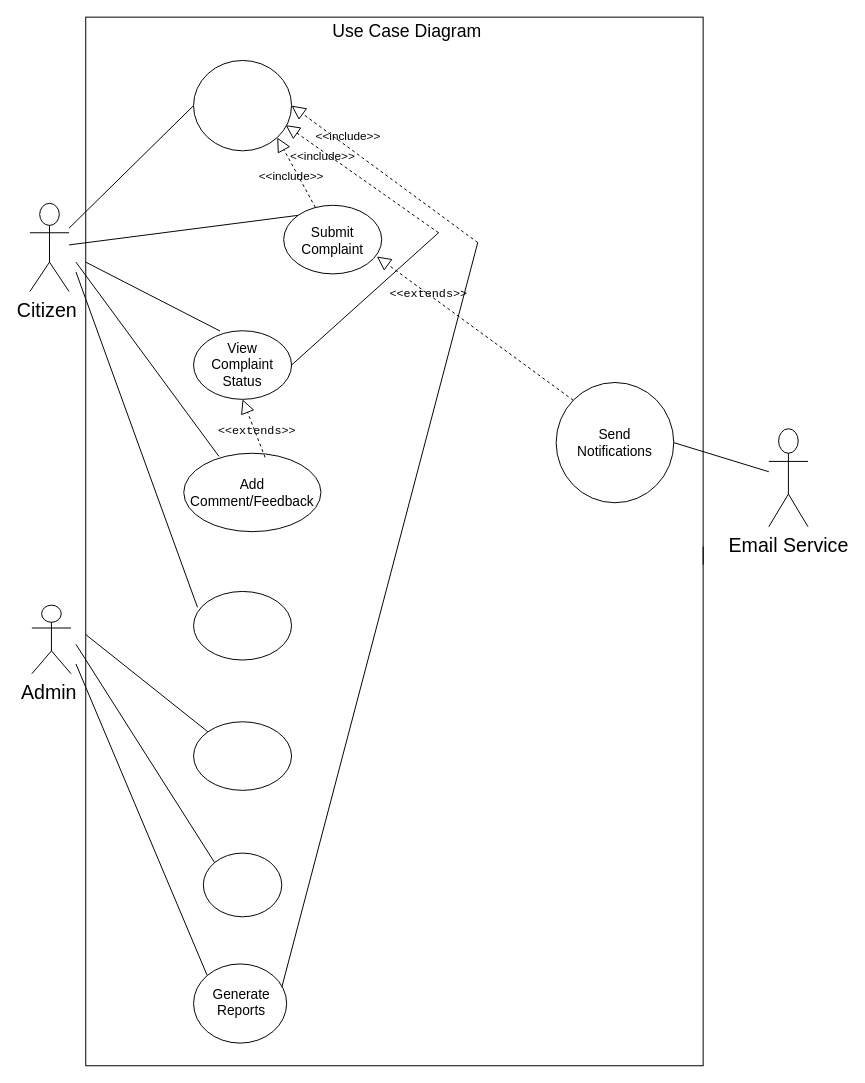
Image size: 865x1083. Some labels were removed from this diagram. The shapes that lost their labels are listed below. From the top down, each one's centre as x and y in pixels, then its label:
At point (242, 105): "Register/Login".
At point (242, 625): "Receive Notifications".
At point (242, 755): "Approve Department".
At point (242, 884): "Manage Users".
